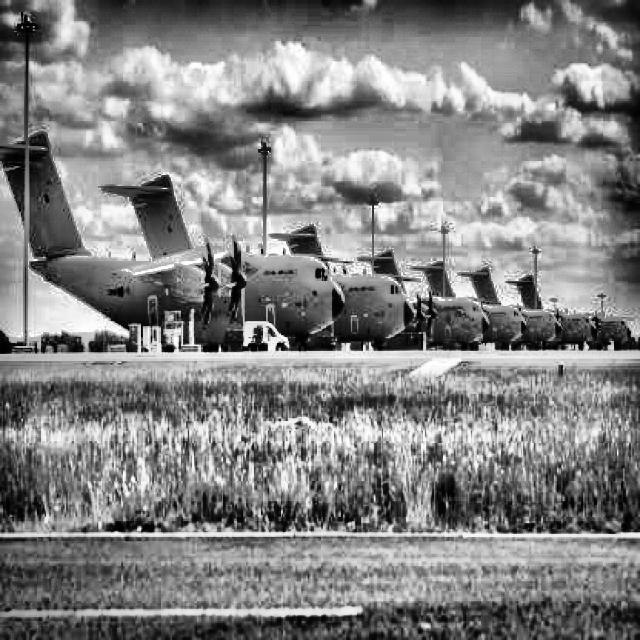A400M: (0, 130, 354, 352), (96, 174, 421, 351), (266, 224, 494, 350), (355, 249, 530, 351), (410, 260, 564, 351), (457, 268, 598, 348), (506, 274, 634, 348)
